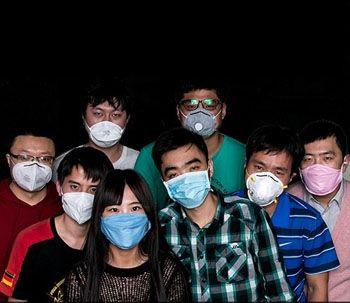OK: (160, 154, 213, 207), (9, 144, 58, 193), (65, 173, 112, 220), (180, 93, 226, 139), (246, 158, 292, 204), (102, 201, 148, 247), (301, 148, 344, 191), (87, 104, 125, 142)
